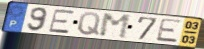7: (135, 16, 159, 41)
9: (27, 7, 49, 32)
E: (154, 18, 184, 44), (48, 9, 76, 35)
M: (98, 12, 132, 40)
Q: (77, 12, 102, 37)
